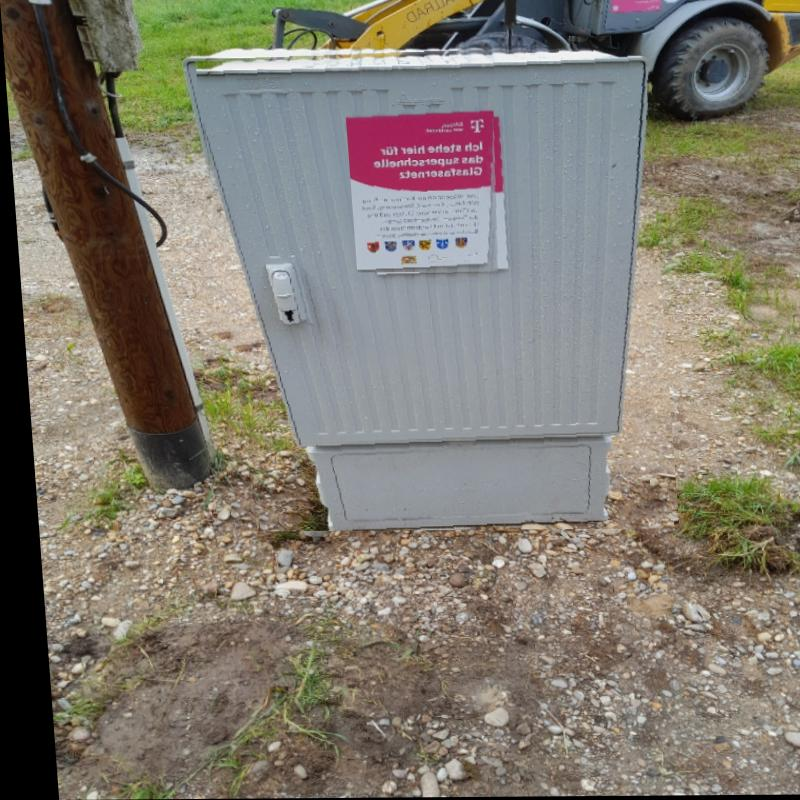NT-Gehause: (194, 49, 644, 531)
Steaker: (344, 108, 491, 273)
